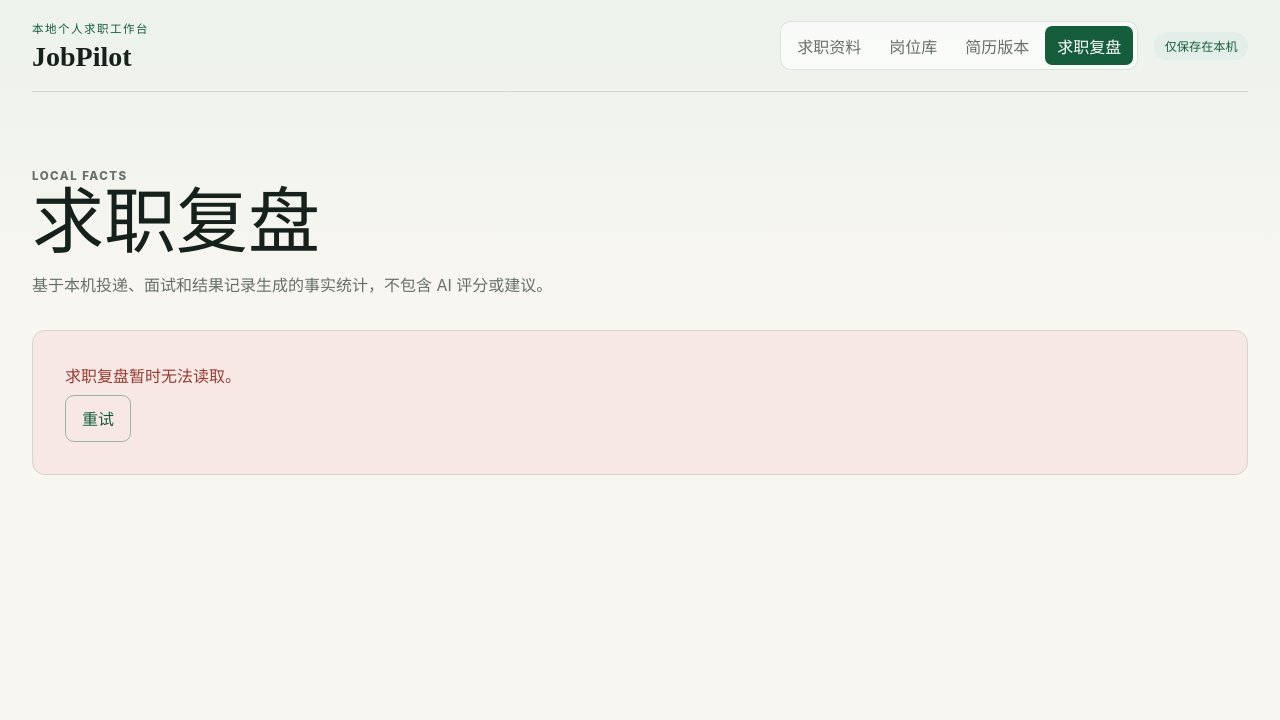
Scenario: App › retries a sanitized feedback load error
This screenshot has width=1280, height=720.
Check: the message shows "求职复盘暂时无法读取。", box [65,366,241,386]
Click the button "重试" at point(98, 418), box [65,395,131,442]
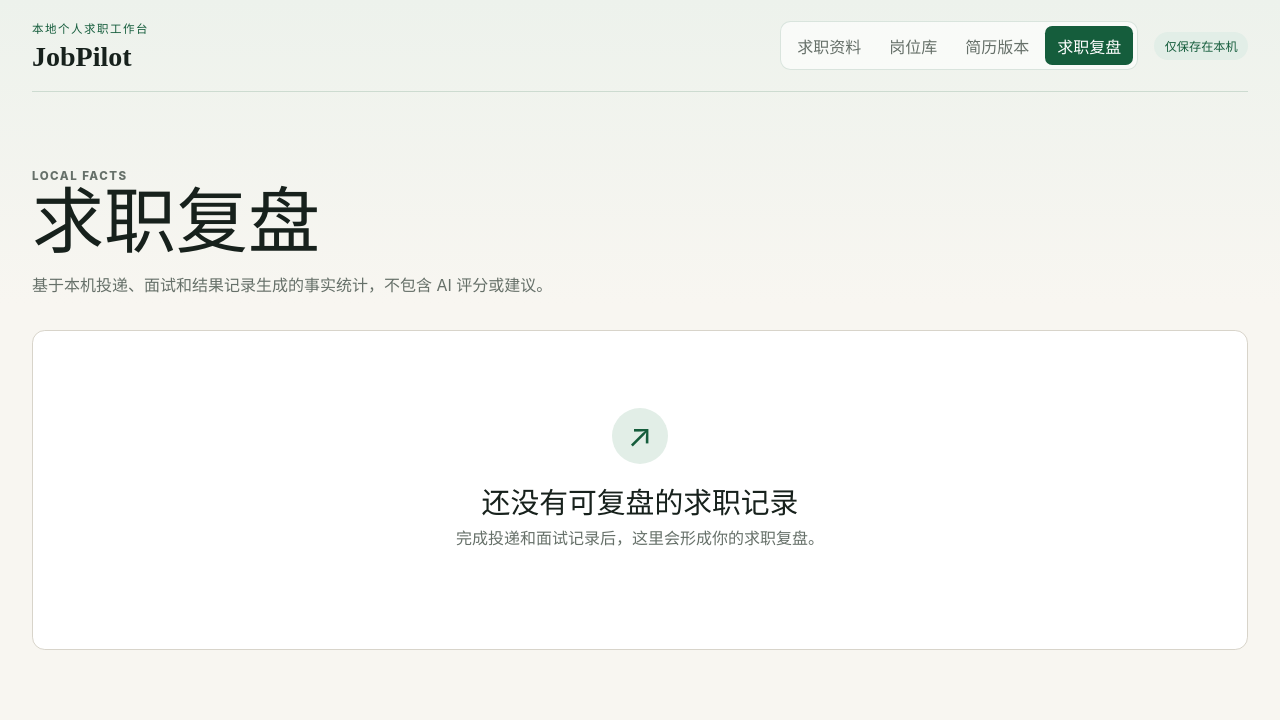
Check: the text "完成投递和面试记录后，这里会形成你的求职复盘。" is shown, box [456,526,824,552]
